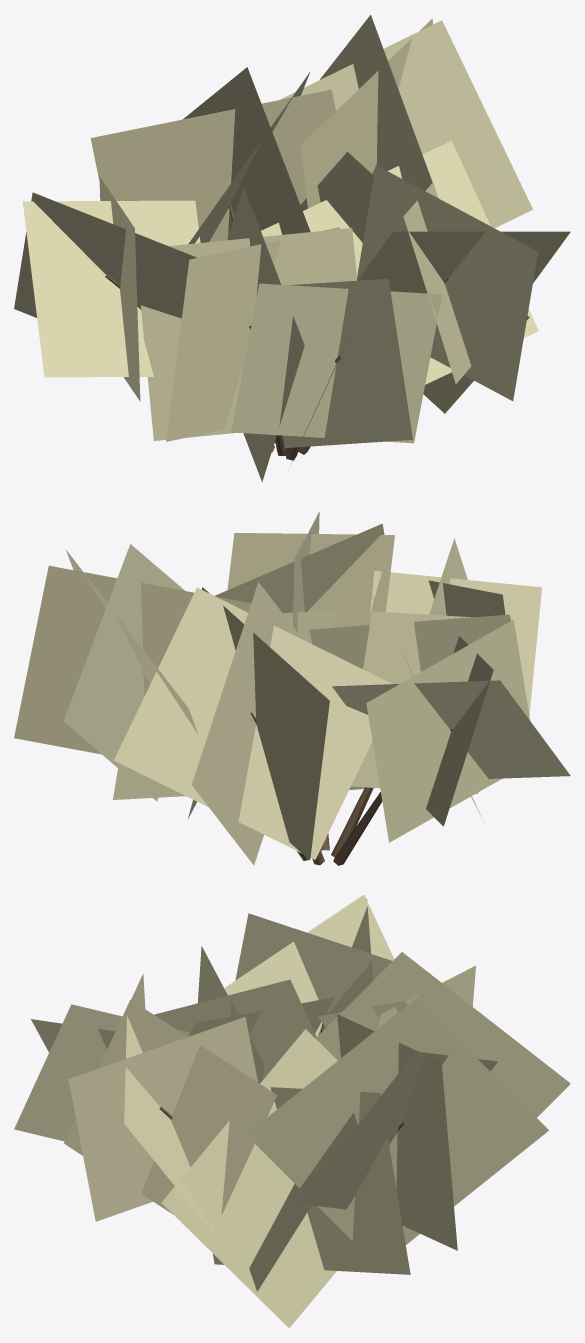
The model's file is dogrose.glb.
The picture shows the model from 3 angles, top to bottom: view 1: azimuth 30°, elevation 25°; view 2: azimuth 150°, elevation 25°; view 3: azimuth 270°, elevation 25°; orthographic projection. The views are drawn at different scales.
Parts seen in each view (by area): view 1: Foliage, dogrose; view 2: Foliage, dogrose; view 3: Foliage.
Boxes of the visible parts, x1=… form: Foliage: x1=14, y1=15, x2=570, y2=481; dogrose: x1=105, y1=164, x2=448, y2=460; Foliage: x1=14, y1=511, x2=570, y2=865; dogrose: x1=143, y1=611, x2=452, y2=865; Foliage: x1=14, y1=894, x2=570, y2=1328.
Size of the model in its own units: 2.87 by 1.92 by 2.93.
